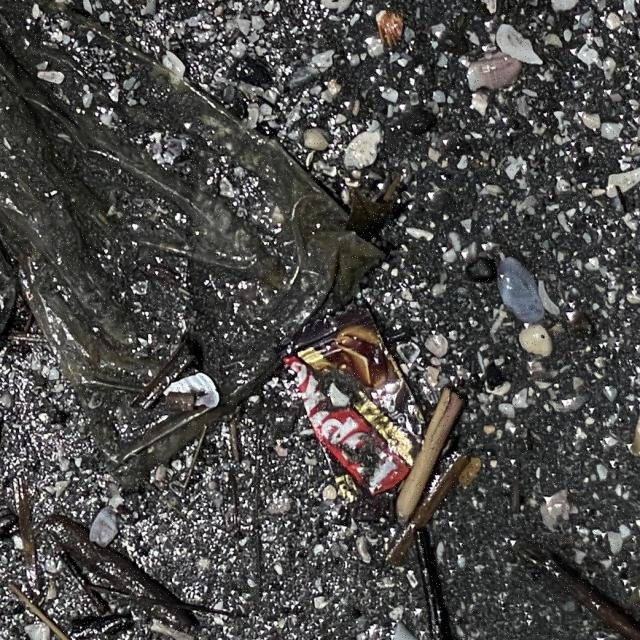plastic_waste: (274, 298, 450, 507)
